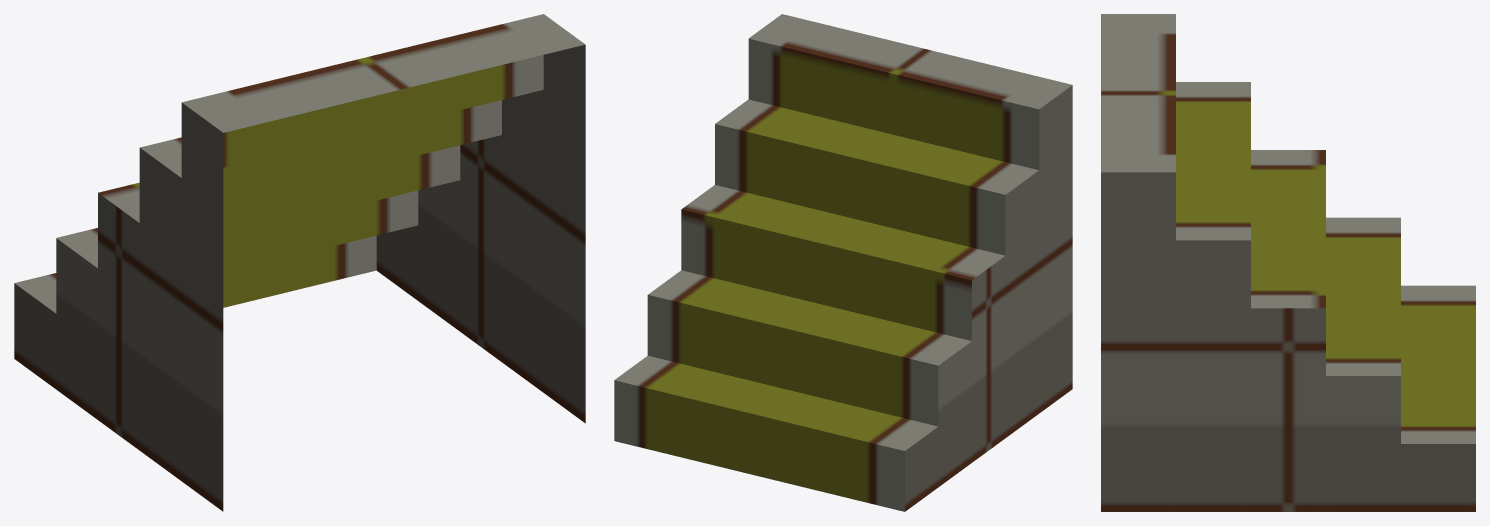
File: Stairs.fbx
3 renders of one model, left to right at view 1: azimuth 30°, elevation 25°; view 2: azimuth 150°, elevation 25°; view 3: azimuth 270°, elevation 25°, orthographic. The views are drawn at different scales.
Visible parts, largest first — view 1: StairsUp, StairsRight, StairsLeft; view 2: StairsUp, StairsRight; view 3: StairsLeft, StairsUp.
Boxes of the visible parts, left/top/right/bottom form: StairsUp: left=14, top=14, right=584, bottom=313; StairsRight: left=14, top=103, right=223, bottom=511; StairsLeft: left=376, top=44, right=585, bottom=423; StairsUp: left=614, top=14, right=1071, bottom=511; StairsRight: left=905, top=85, right=1072, bottom=511; StairsLeft: left=1101, top=172, right=1475, bottom=511; StairsUp: left=1101, top=14, right=1475, bottom=443.
Size of the model in its own units: 100 by 100 by 100.
